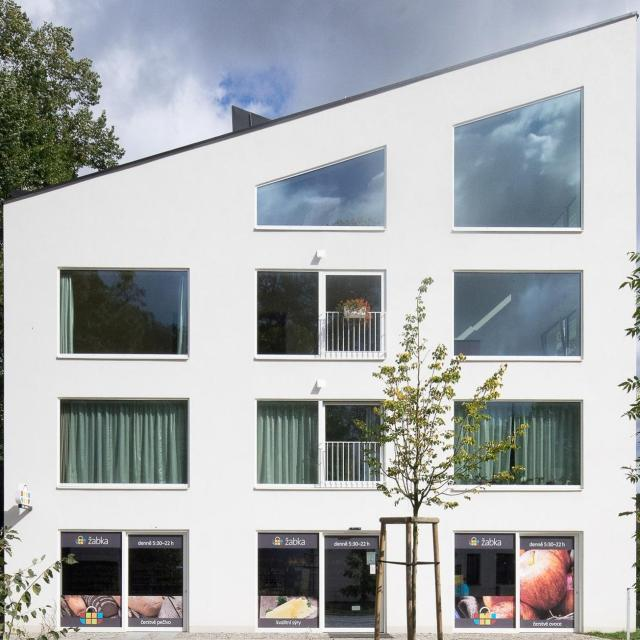Railing: (325, 440, 379, 490), (327, 314, 384, 356)
door: (256, 529, 382, 632), (455, 532, 582, 631), (58, 534, 184, 628)
plant: (353, 275, 530, 515), (0, 1, 124, 204), (0, 527, 77, 639)
wall: (6, 12, 639, 634)
windows: (455, 92, 582, 229), (259, 402, 385, 489), (61, 270, 188, 356), (62, 402, 189, 488), (453, 274, 582, 358), (259, 272, 383, 355), (456, 405, 583, 486), (259, 151, 385, 230)
